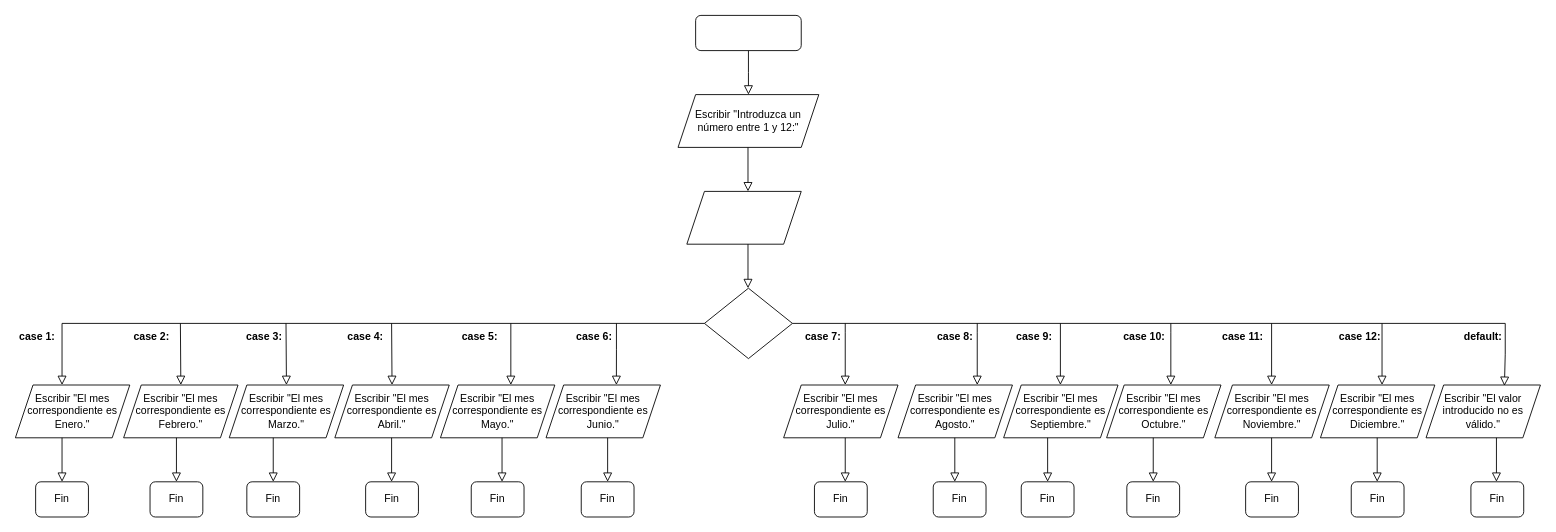
This 1556x532 diagram has some shape labels left out. The centre of each missing label's shape, as x and y in pixels:
Inicio: (748,33)
Poner el valor introducido en la variable valorIntroducido: (743,217)
valorIntroducido: (748,323)
